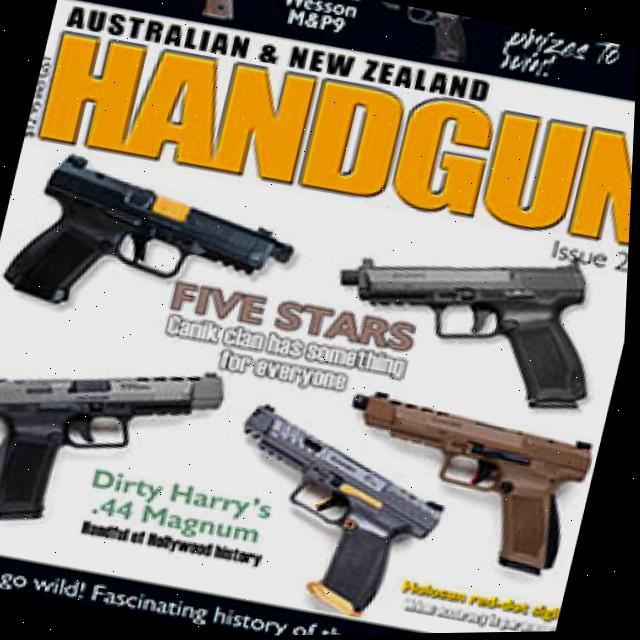pistol: (314, 217, 625, 426), (0, 141, 312, 347), (204, 397, 468, 629), (322, 383, 607, 583), (0, 326, 237, 560), (349, 0, 477, 68), (112, 0, 244, 25)
